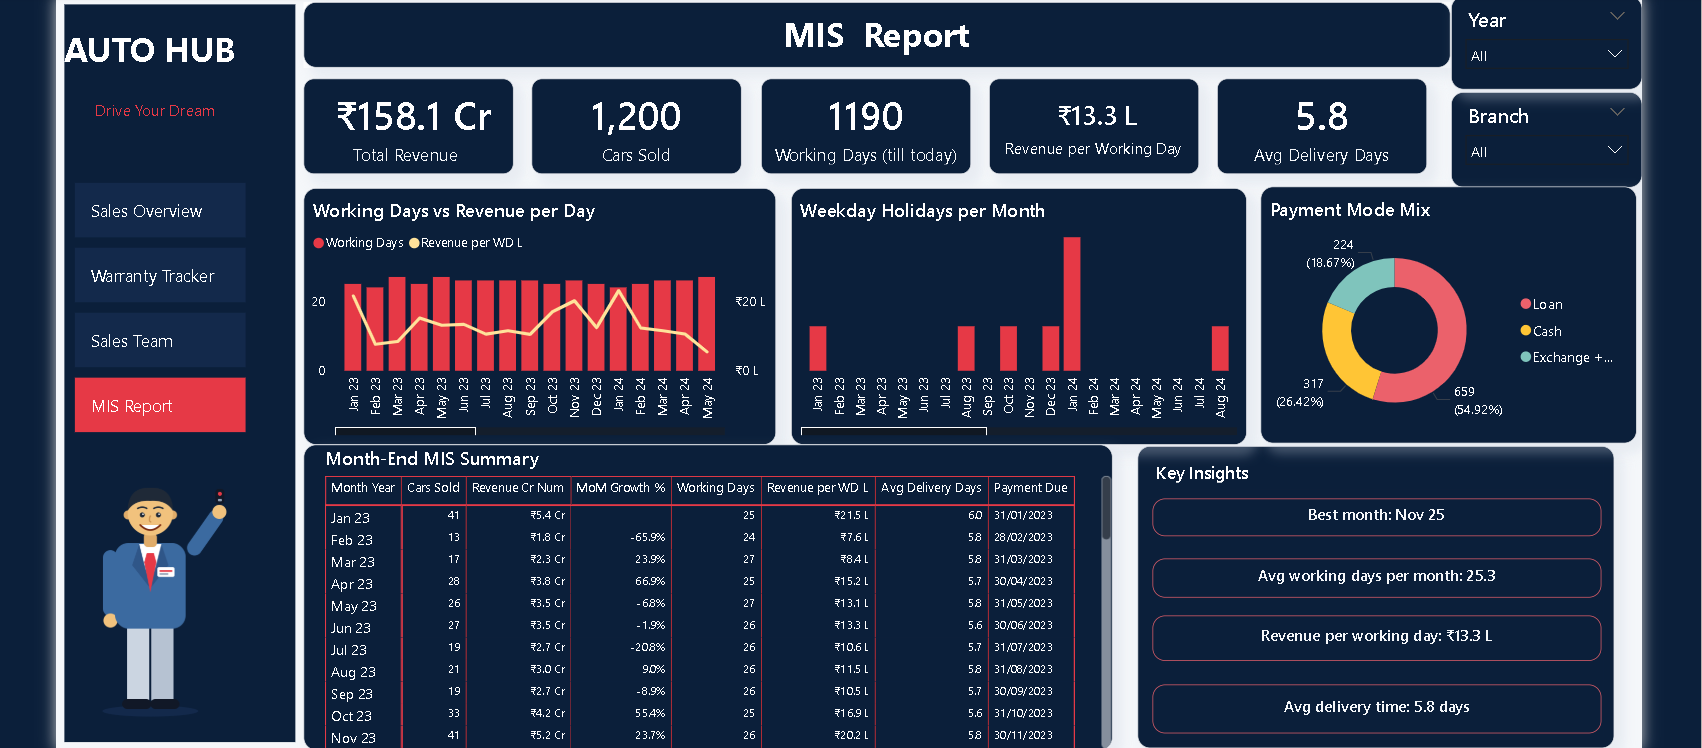

What the dashboard file says about the page in this screenshot:
{"tool":"powerbi","page":{"name":"MIS Report","canvas":[1515,720],"ordinal":3},"visuals":[{"type":"group","id":"g1","title":"Group 1","box":[236.6,5.4,1095,62.7],"z":0},{"type":"shape","box":[0,0,236.6,720.5],"z":1000},{"type":"card","fields":{"Values":["Sales.Revenue Cr Num"]},"box":[236.6,78.9,200.7,91.4],"z":2000},{"type":"card","fields":{"Values":["Sales.Cars Sold"]},"box":[454.8,78.9,200.7,91.4],"z":3000},{"type":"card","fields":{"Values":["Sales.Working Days"]},"box":[673,78.9,200.7,91.4],"z":4000},{"type":"card","fields":{"Values":["Sales.Revenue per WD L"]},"box":[891.2,78.9,200.7,91.4],"z":5000},{"type":"card","fields":{"Values":["Sales.Avg Delivery Days"]},"box":[1109.4,78.9,200.7,91.4],"z":6000},{"type":"textbox","box":[0,20.7,189.4,69.5],"z":7000},{"type":"textbox","box":[0,90.2,189.4,47.3],"z":8000},{"type":"pageNavigator","box":[10.4,170.1,179,257.4],"z":9000},{"type":"image","box":[10.4,427.6,179,276.7],"z":10000},{"type":"slicer","fields":{"Values":["Sales.Branch"]},"box":[1331.6,91.4,182.8,91.4],"z":11000},{"type":"slicer","fields":{"Values":["Calendar.Year"]},"box":[1331.6,0,182.8,89.6],"z":12000},{"type":"shape","box":[1032.3,430.1,455.2,288.5],"z":13000},{"type":"shape","title":"Key Insights","box":[1042.5,434.9,428.3,44.8],"z":14000},{"type":"card","fields":{"Values":["Sales.M Insight 1"]},"box":[1046.6,480.3,428.3,35.8],"z":15000},{"type":"card","fields":{"Values":["Sales.M Insight 2"]},"box":[1046.6,537.7,428.3,37.6],"z":16000},{"type":"card","fields":{"Values":["Sales.M Insight 3"]},"box":[1046.6,591.4,428.3,43],"z":17000},{"type":"textbox","box":[236.6,5.4,1095,62.7],"z":18000,"group":"g1"},{"type":"card","fields":{"Values":["Sales.M Insight 4"]},"box":[1046.6,657.7,428.3,46.6],"z":18000},{"type":"lineClusteredColumnComboChart","title":"Working Days vs Revenue per Day","fields":{"Category":["Calendar.Month Year"],"Y":["Sales.Working Days"],"Y2":["Sales.Revenue per WD L"]},"box":[236.6,182.8,451.6,245.5],"z":19000},{"type":"clusteredColumnChart","title":"Weekday Holidays per Month","fields":{"Category":["Calendar.Month Year"],"Y":["Sales.Holiday Days"]},"box":[701.3,182.8,435.5,245.5],"z":20000},{"type":"donutChart","title":"Payment Mode Mix","fields":{"Category":["Sales.Payment Mode"],"Y":["Sales.Cars Sold"]},"box":[1150,182.2,359.5,245.6],"z":21000},{"type":"pivotTable","title":"Month-End MIS Summary","fields":{"Rows":["Calendar.Month Year"],"Values":["Sales.Cars Sold","Sales.Revenue Cr Num","Sales.MoM Growth %","Sales.Working Days","Sales.Revenue per WD L","Sales.Avg Delivery Days","Sales.Payment Due"]},"box":[236.6,428.3,772.4,292.1],"z":22000}]}

Visuals, with their boxes on the page's 1515x720 design canvas (x1, y1, x2, y2). These are canvas units, not pixel positions in the 1702x748 screenshot, which may show the page scaled, cropped or inside an application window:
"Group 1" group: (x1=237, y1=5, x2=1332, y2=68)
shape: (x1=0, y1=0, x2=237, y2=720)
card - Sales.Revenue Cr Num: (x1=237, y1=79, x2=437, y2=170)
card - Sales.Cars Sold: (x1=455, y1=79, x2=656, y2=170)
card - Sales.Working Days: (x1=673, y1=79, x2=874, y2=170)
card - Sales.Revenue per WD L: (x1=891, y1=79, x2=1092, y2=170)
card - Sales.Avg Delivery Days: (x1=1109, y1=79, x2=1310, y2=170)
textbox: (x1=0, y1=21, x2=189, y2=90)
textbox: (x1=0, y1=90, x2=189, y2=138)
pageNavigator: (x1=10, y1=170, x2=189, y2=428)
image: (x1=10, y1=428, x2=189, y2=704)
slicer - Sales.Branch: (x1=1332, y1=91, x2=1514, y2=183)
slicer - Calendar.Year: (x1=1332, y1=0, x2=1514, y2=90)
shape: (x1=1032, y1=430, x2=1488, y2=719)
"Key Insights" shape: (x1=1042, y1=435, x2=1471, y2=480)
card - Sales.M Insight 1: (x1=1047, y1=480, x2=1475, y2=516)
card - Sales.M Insight 2: (x1=1047, y1=538, x2=1475, y2=575)
card - Sales.M Insight 3: (x1=1047, y1=591, x2=1475, y2=634)
textbox: (x1=237, y1=5, x2=1332, y2=68)
card - Sales.M Insight 4: (x1=1047, y1=658, x2=1475, y2=704)
"Working Days vs Revenue per Day" lineClusteredColumnComboChart: (x1=237, y1=183, x2=688, y2=428)
"Weekday Holidays per Month" clusteredColumnChart: (x1=701, y1=183, x2=1137, y2=428)
"Payment Mode Mix" donutChart: (x1=1150, y1=182, x2=1510, y2=428)
"Month-End MIS Summary" pivotTable: (x1=237, y1=428, x2=1009, y2=720)
